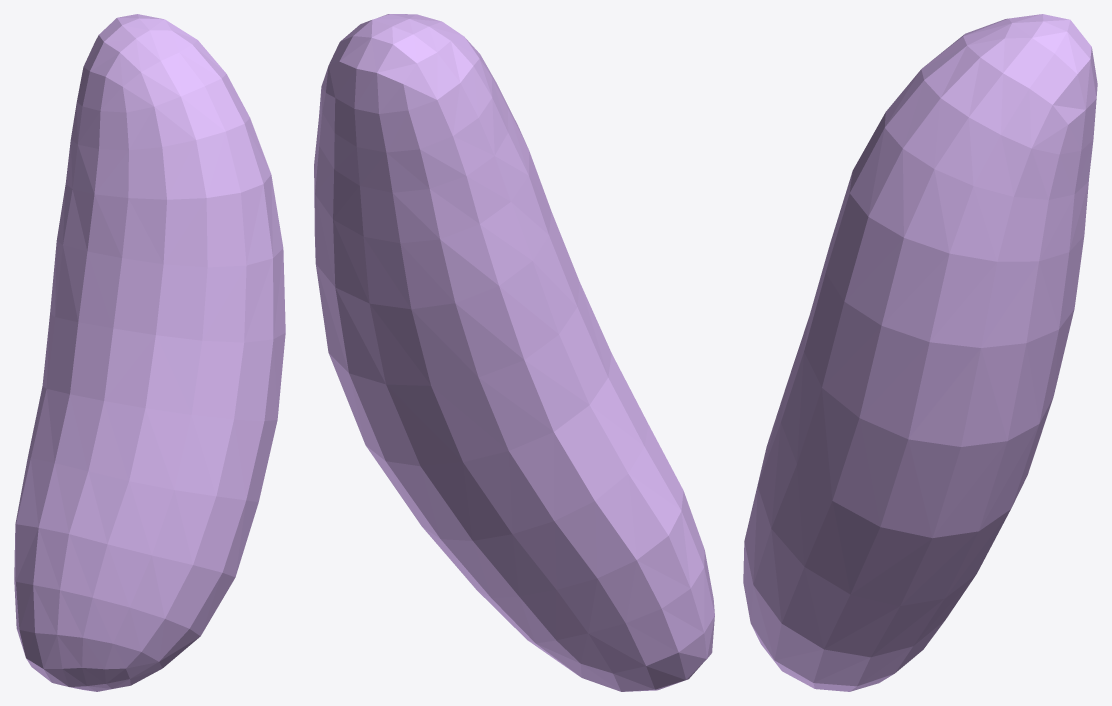
Rendered from organ-ovary.glb.
3 views of the same model, side by side, from view 1: azimuth 30°, elevation 25°; view 2: azimuth 150°, elevation 25°; view 3: azimuth 270°, elevation 25° (orthographic). The views are drawn at different scales.
Visible parts, largest first — view 1: left-ovary; view 2: left-ovary; view 3: left-ovary.
Part boxes in pixels (<box>): left-ovary: <box>14,14,285,691</box>; left-ovary: <box>314,14,714,691</box>; left-ovary: <box>743,14,1097,691</box>.
Size of the model in its own units: 0.0123 by 0.0239 by 0.0105.
